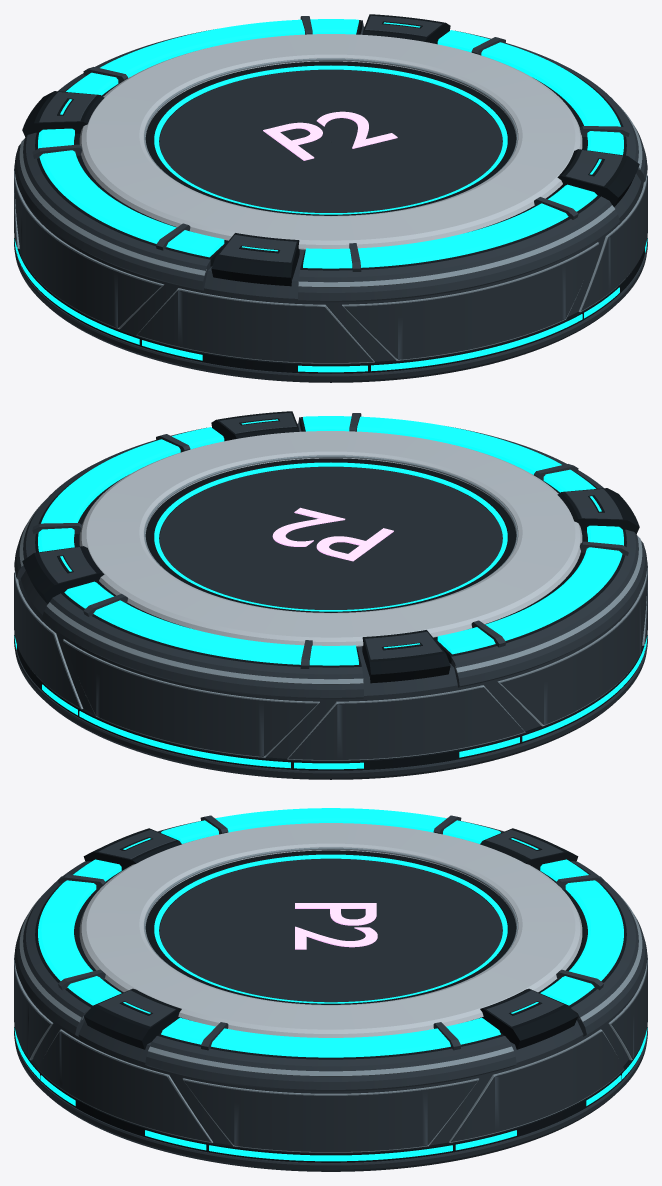
The model's file is Compact.fbx.
3 renders of one model, top to bottom at view 1: azimuth 30°, elevation 25°; view 2: azimuth 150°, elevation 25°; view 3: azimuth 270°, elevation 25°, orthographic.
Visible parts, largest first — view 1: SM_Puck_Compact_P2_HighDetail; view 2: SM_Puck_Compact_P2_HighDetail; view 3: SM_Puck_Compact_P2_HighDetail.
Part boxes in pixels (bbox=[...]): SM_Puck_Compact_P2_HighDetail: bbox=[14, 14, 647, 382]; SM_Puck_Compact_P2_HighDetail: bbox=[14, 411, 647, 779]; SM_Puck_Compact_P2_HighDetail: bbox=[14, 808, 647, 1171].
Size of the model in its own units: 71.9 by 71.9 by 14.7.
